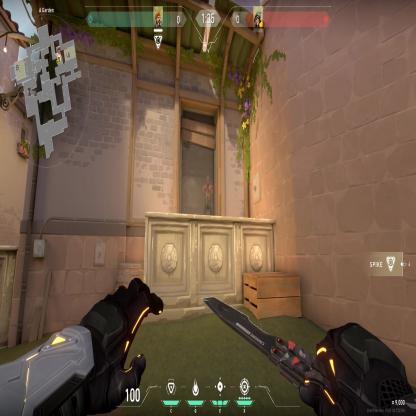enemy: (202, 174, 214, 217)
